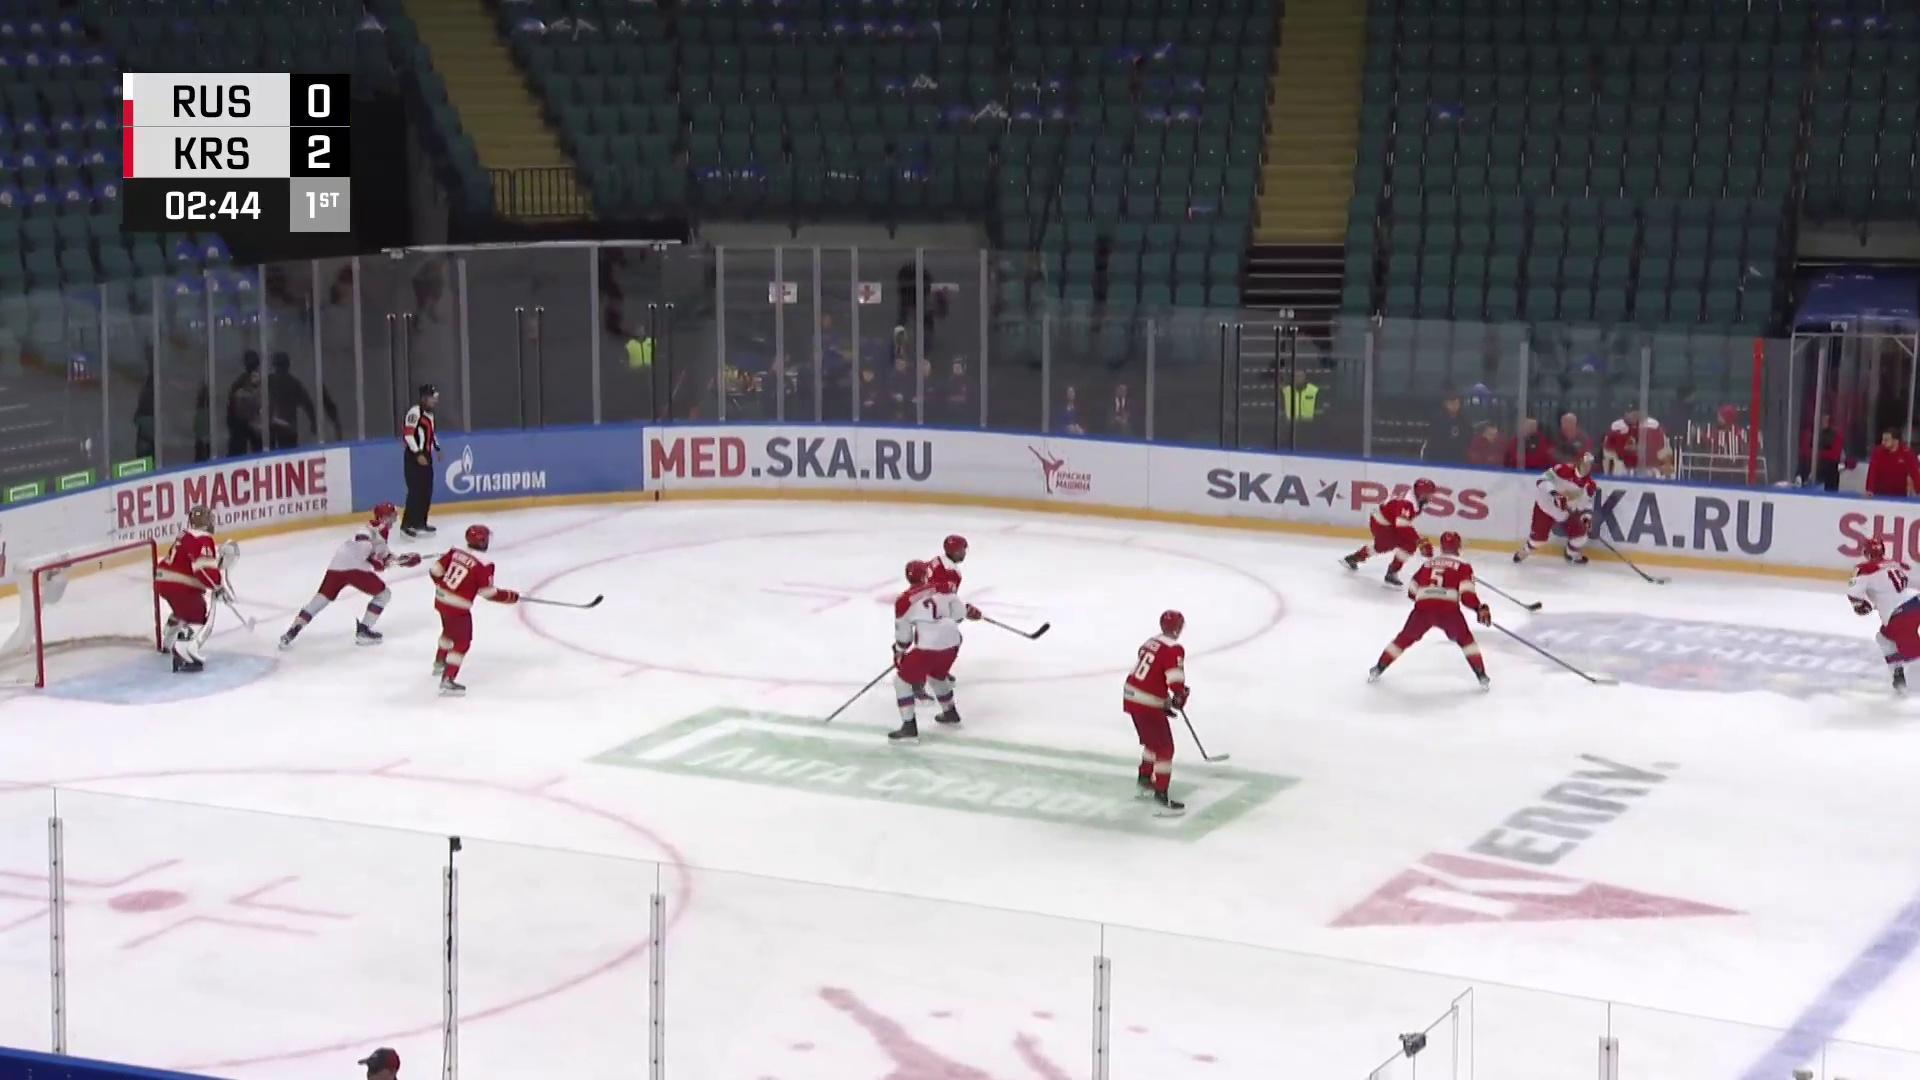ball: (1655, 579, 1668, 585)
